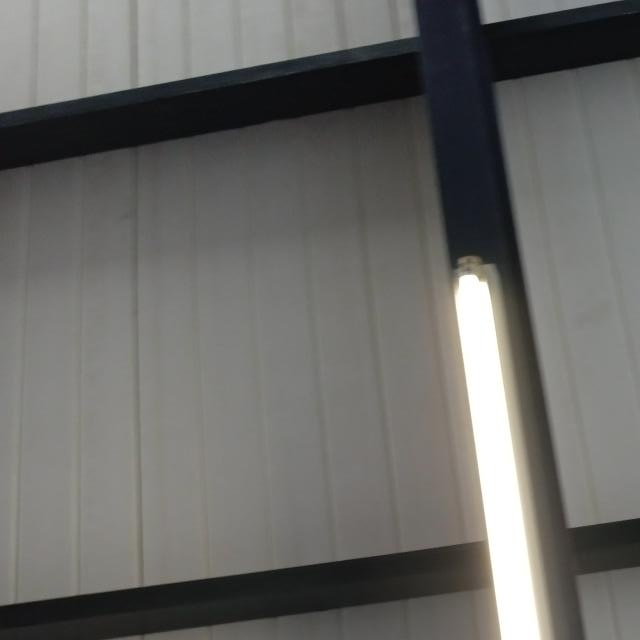fluorescent tube: (414, 223, 636, 640)
